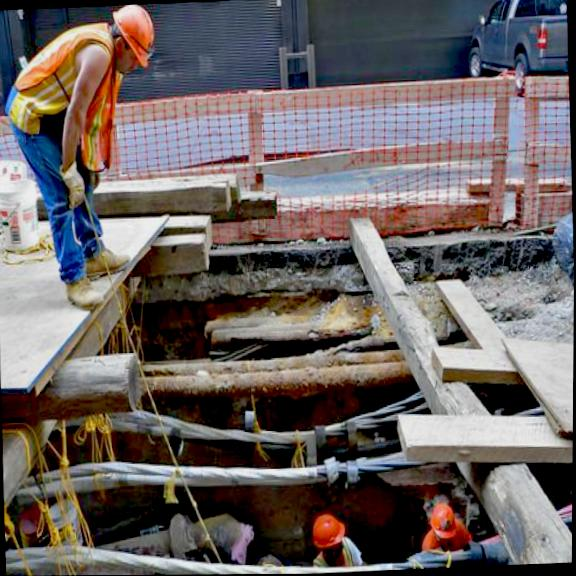safety_vest: (6, 24, 126, 175)
